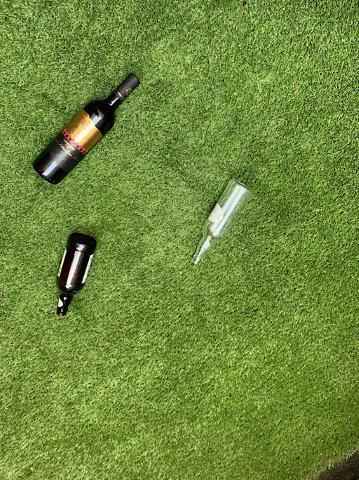botolkaca: (32, 73, 144, 185), (191, 181, 249, 265), (55, 233, 94, 317)
